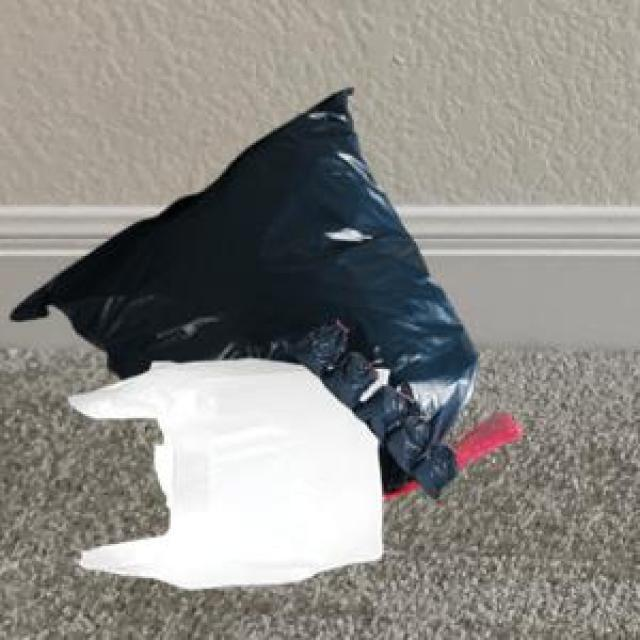miscellaneous trash: (6, 85, 518, 495), (282, 322, 454, 495)
